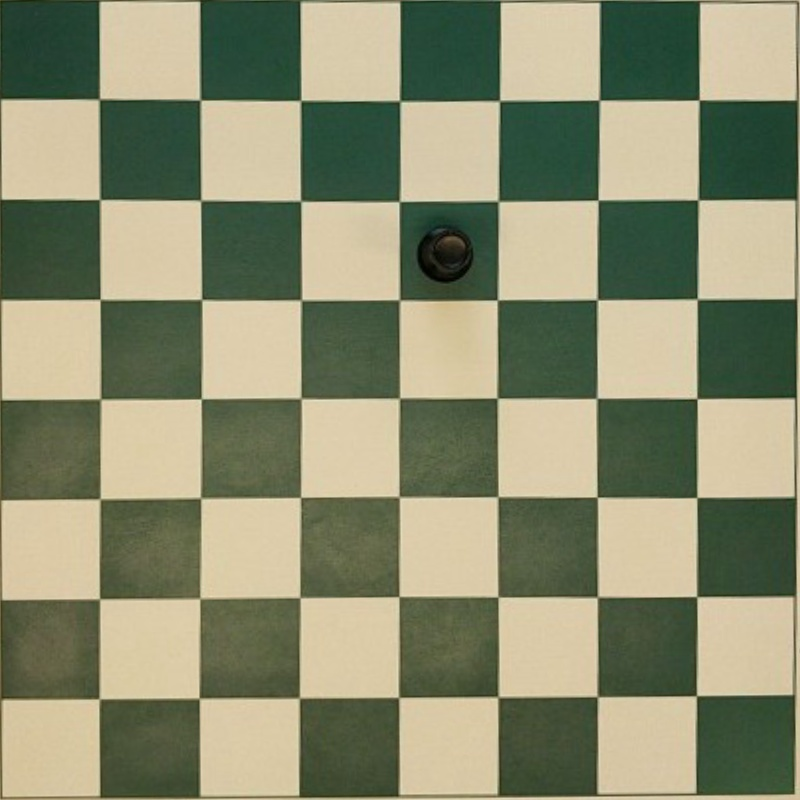black-rook: (418, 227, 473, 282)
